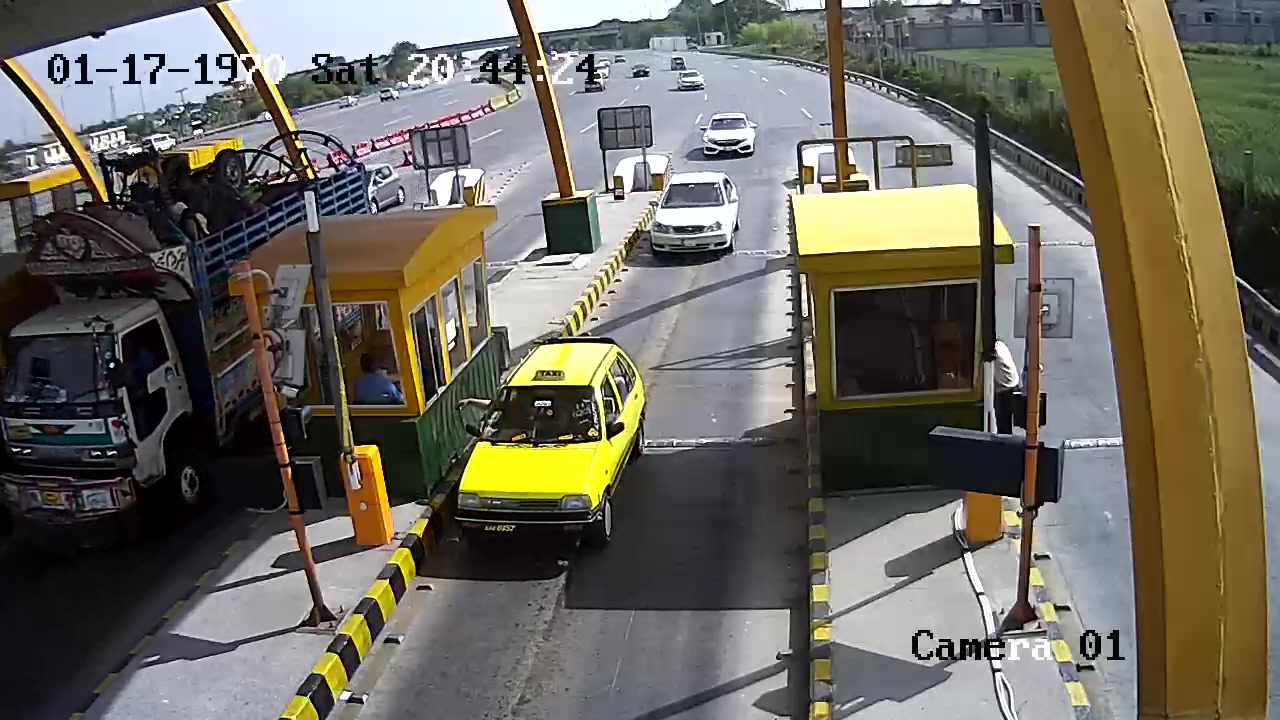F1: (451, 321, 666, 545)
